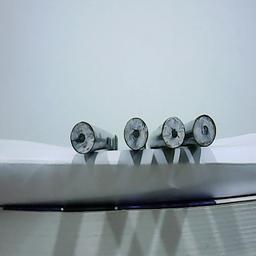pen: (70, 121, 95, 155), (192, 113, 217, 147), (162, 115, 187, 149), (123, 117, 148, 151)
